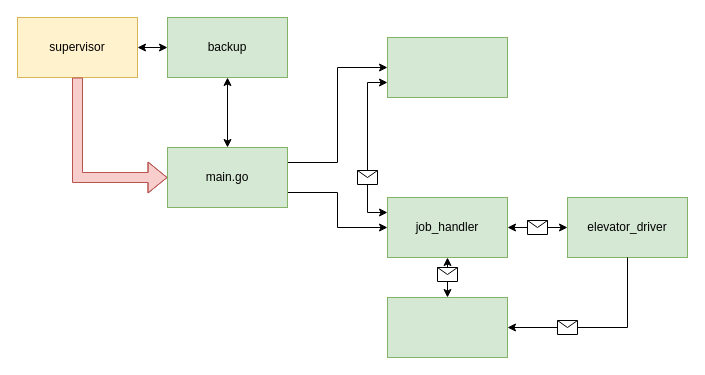
This 705x375 diagram has some shape labels left out. The centre of each missing label's shape, as x and y in pixels:
"arbritration" belongs at pixel 447 67.
"cost" belongs at pixel 447 327.
